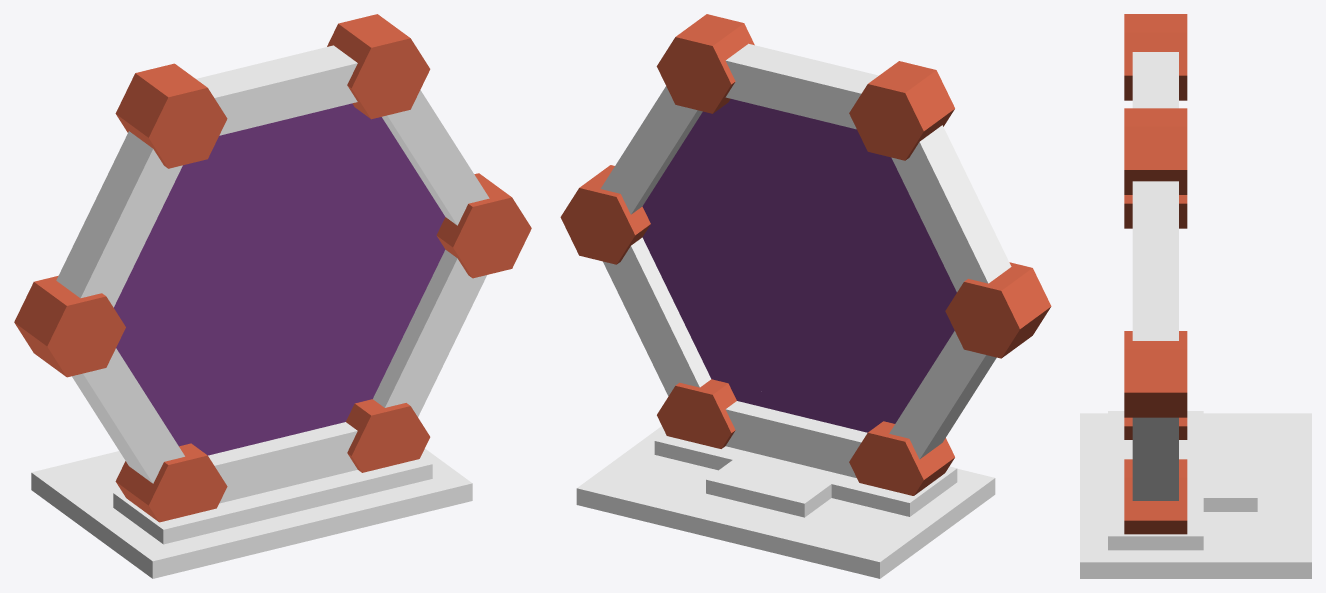
The model's file is portal.glb.
The picture shows the model from 3 angles, left to right: view 1: azimuth 30°, elevation 25°; view 2: azimuth 150°, elevation 25°; view 3: azimuth 270°, elevation 25°; orthographic projection. The views are drawn at different scales.
Parts seen in each view (by area): view 1: portal; view 2: portal; view 3: portal.
Boxes of the visible parts, <box> form: portal: <box>14,14,531,578</box>; portal: <box>560,14,1051,578</box>; portal: <box>1080,14,1311,578</box>.
Bounding box in the file's own units: 15.21 × 13.65 × 6.61.
